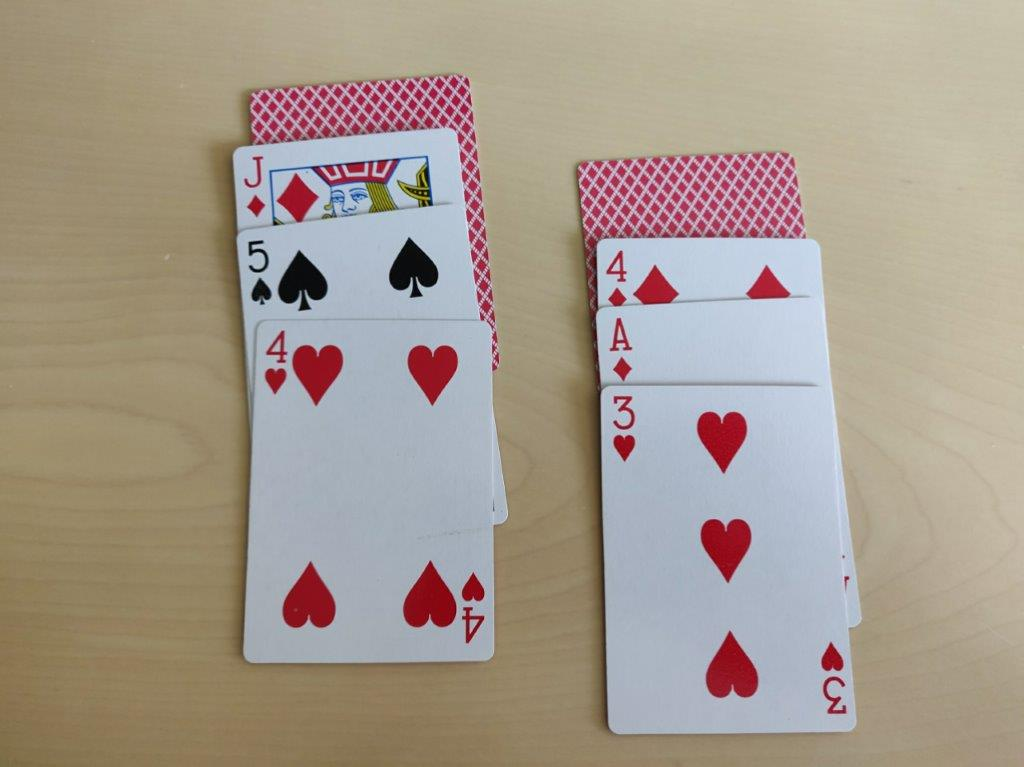3H: (606, 390, 640, 468)
4D: (603, 246, 632, 308)
4H: (257, 326, 294, 405)
5S: (239, 233, 282, 310)
AD: (601, 311, 637, 386)
BACK: (564, 148, 812, 236), (239, 68, 474, 137)
JD: (239, 152, 274, 224)
